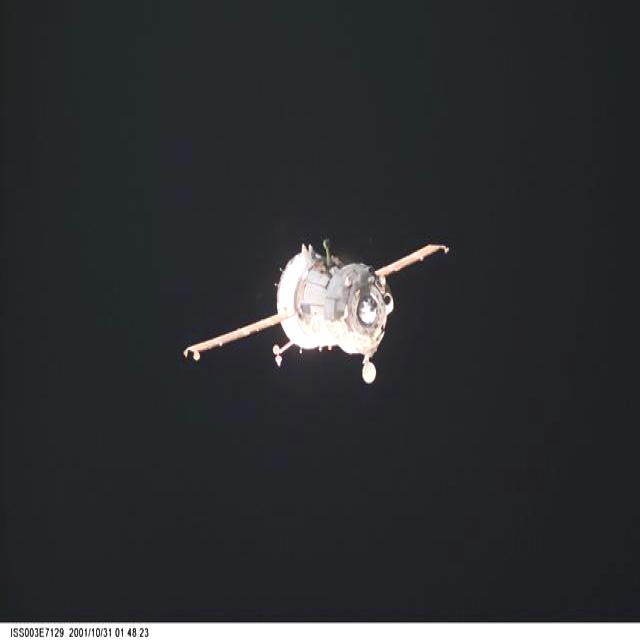medium_debris: (184, 240, 448, 384)
